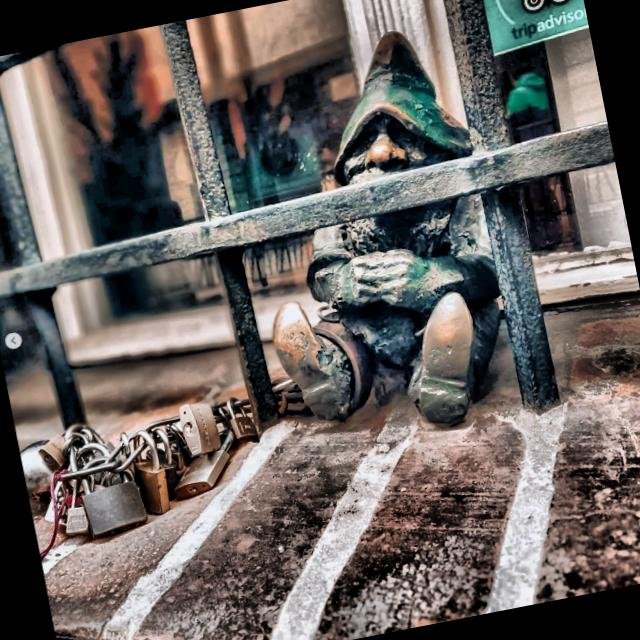Wiezien: (272, 33, 503, 426)
